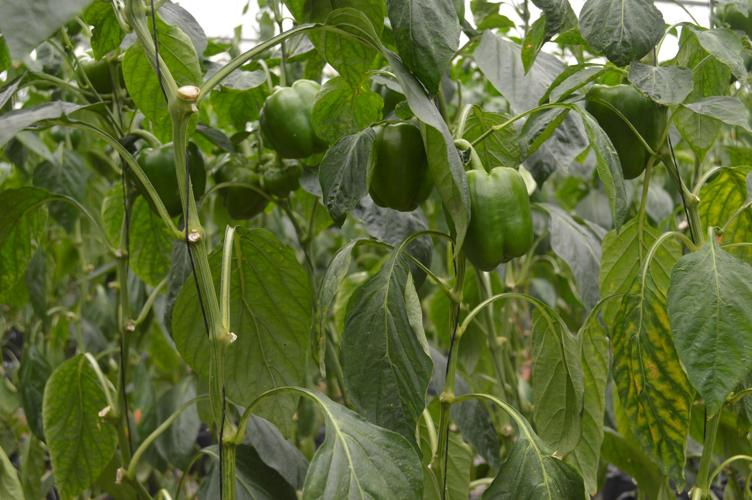BellPepper: (457, 165, 534, 268), (587, 83, 656, 181), (360, 120, 426, 218), (132, 146, 207, 219), (255, 77, 320, 157), (212, 150, 260, 214), (260, 158, 302, 199)
